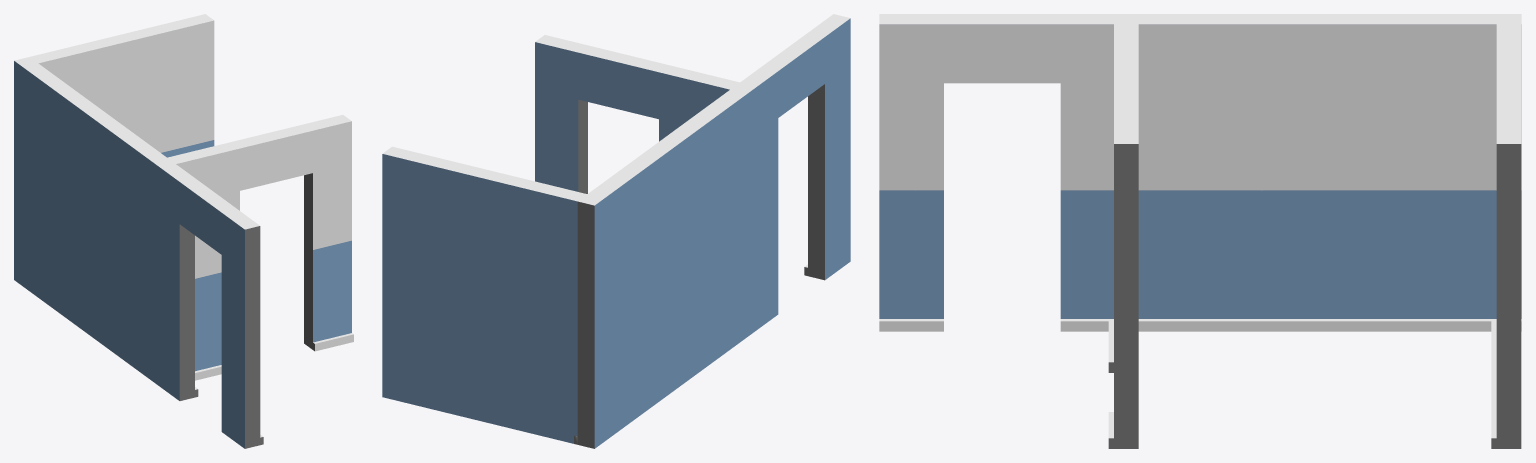
File: Wall 4.fbx
3 renders of one model, left to right at view 1: azimuth 30°, elevation 25°; view 2: azimuth 150°, elevation 25°; view 3: azimuth 270°, elevation 25°, orthographic. The views are drawn at different scales.
Parts seen in each view (by area): view 1: wall 4; view 2: wall 4; view 3: wall 4.
Boxes of the visible parts, box(x1,y1,x2,y2) form: wall 4: box(14, 14, 353, 448); wall 4: box(382, 14, 850, 448); wall 4: box(879, 14, 1521, 448).
Bounding box in the file's own units: 232 × 254 × 485.
Materials: 3 (1 with a texture image).
